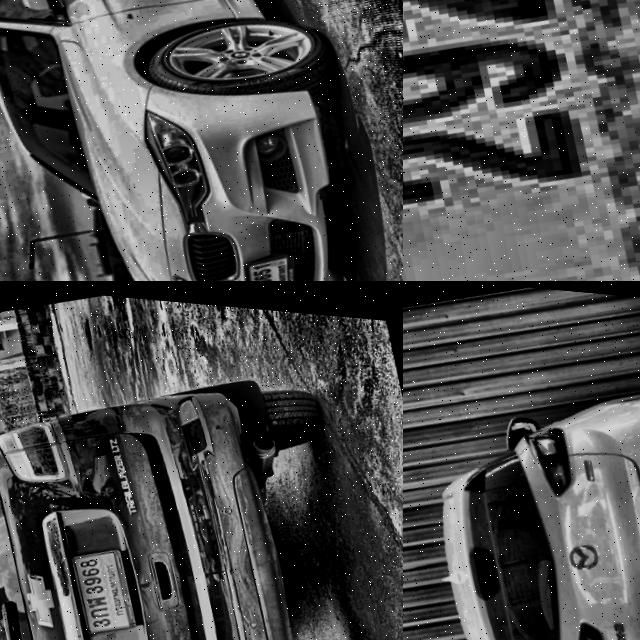license-plate: (403, 0, 640, 281), (67, 533, 150, 635), (235, 235, 309, 281)
